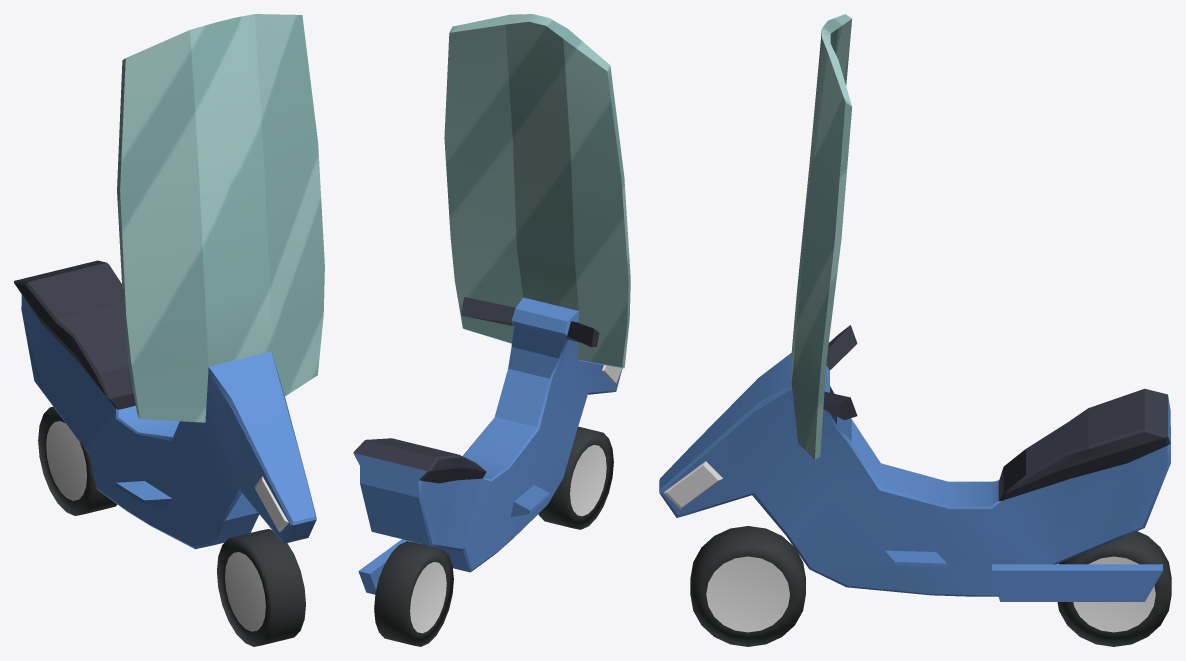
File: motorcycle 2 blue.fbx
3 views of the same model, side by side, from view 1: azimuth 30°, elevation 25°; view 2: azimuth 150°, elevation 25°; view 3: azimuth 270°, elevation 25° (orthographic). The views are drawn at different scales.
Visible parts, largest first — view 1: motorcycle_2_blue; view 2: motorcycle_2_blue; view 3: motorcycle_2_blue.
Boxes of the visible parts, x1,y1,x2,y2 form: motorcycle_2_blue: (14,14,324,646); motorcycle_2_blue: (353,14,630,646); motorcycle_2_blue: (659,14,1171,646).
Bounding box in the file's own units: 45.59 × 130 × 99.48.
